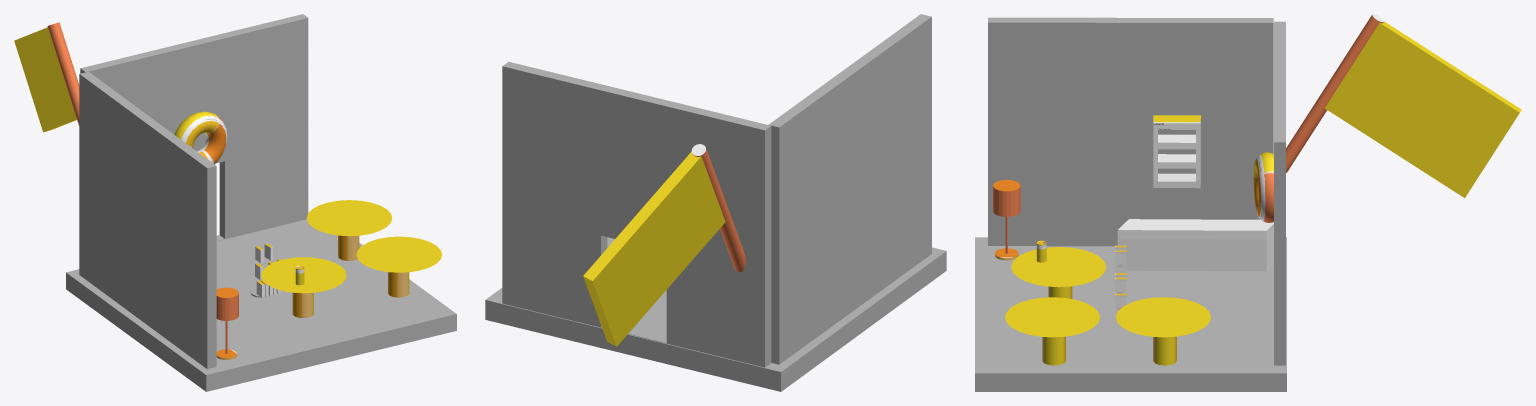
The model's file is saloon1.fbx.
3 renders of one model, left to right at view 1: azimuth 30°, elevation 25°; view 2: azimuth 150°, elevation 25°; view 3: azimuth 270°, elevation 25°, orthographic. The views are drawn at different scales.
Visible parts, largest first — view 1: wall, pasted__pasted__pasted__tabel_1 (×2), AmericanFlag111:pCylinder2, pasted__pasted__tabel_1, pTorus1, lAMP_1:lamp; view 2: wall, AmericanFlag111:pCylinder2; view 3: wall, AmericanFlag111:pCylinder2, pCube5, pasted__pasted__pasted__tabel_1 (×2), pasted__pasted__tabel_1, bookshelfwall_:pCube2, lAMP_1:lamp, pTorus1.
Part boxes in pixels (x1,y1,x2,y2): wall: (66,14,456,391); pasted__pasted__pasted__tabel_1 (×2): (261,200,392,317); AmericanFlag111:pCylinder2: (14,22,79,132); pasted__pasted__tabel_1: (356,236,442,297); pTorus1: (174,111,227,164); lAMP_1:lamp: (216,287,238,359); wall: (485,14,946,391); AmericanFlag111:pCylinder2: (583,144,745,346); wall: (975,17,1286,391); AmericanFlag111:pCylinder2: (1286,14,1521,197); pCube5: (1117,219,1273,271); pasted__pasted__pasted__tabel_1 (×2): (1011,247,1210,365); pasted__pasted__tabel_1: (1005,297,1099,365); bookshelfwall_:pCube2: (1153,115,1200,188); lAMP_1:lamp: (993,180,1020,260); pTorus1: (1253,152,1273,223).
Size of the model in its own units: 28.58 by 23.93 by 45.93.
2 materials, 1 textured.
